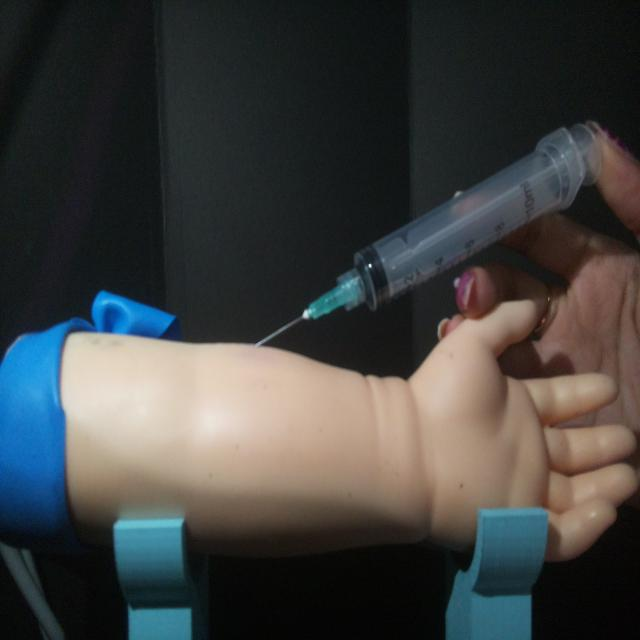28deg: (249, 116, 607, 351)
